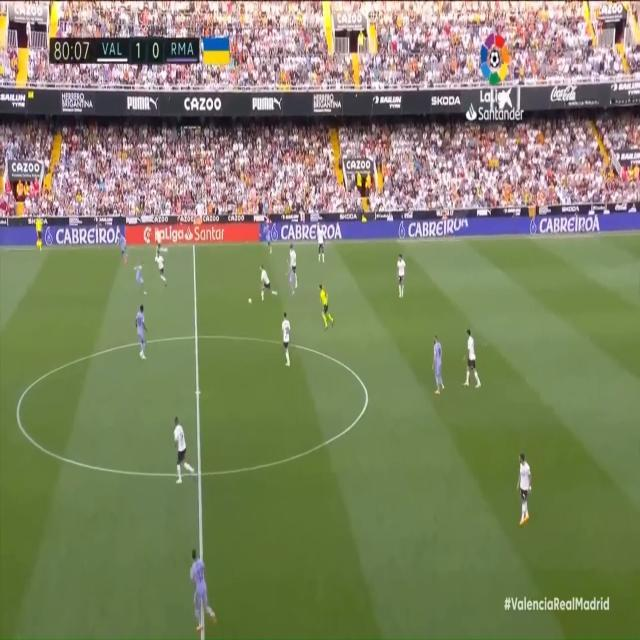ball: (245, 294, 253, 309)
player: (190, 550, 219, 637), (171, 414, 198, 488), (515, 449, 533, 529), (464, 326, 484, 391), (430, 332, 449, 400), (133, 301, 150, 365), (257, 265, 280, 305), (280, 312, 295, 368), (394, 251, 409, 303), (115, 232, 133, 270), (259, 218, 276, 255), (135, 260, 152, 296), (155, 252, 170, 292), (289, 242, 299, 291), (285, 254, 297, 292), (156, 229, 169, 260), (316, 224, 326, 263)
referee: (319, 282, 337, 331), (34, 208, 45, 255)
